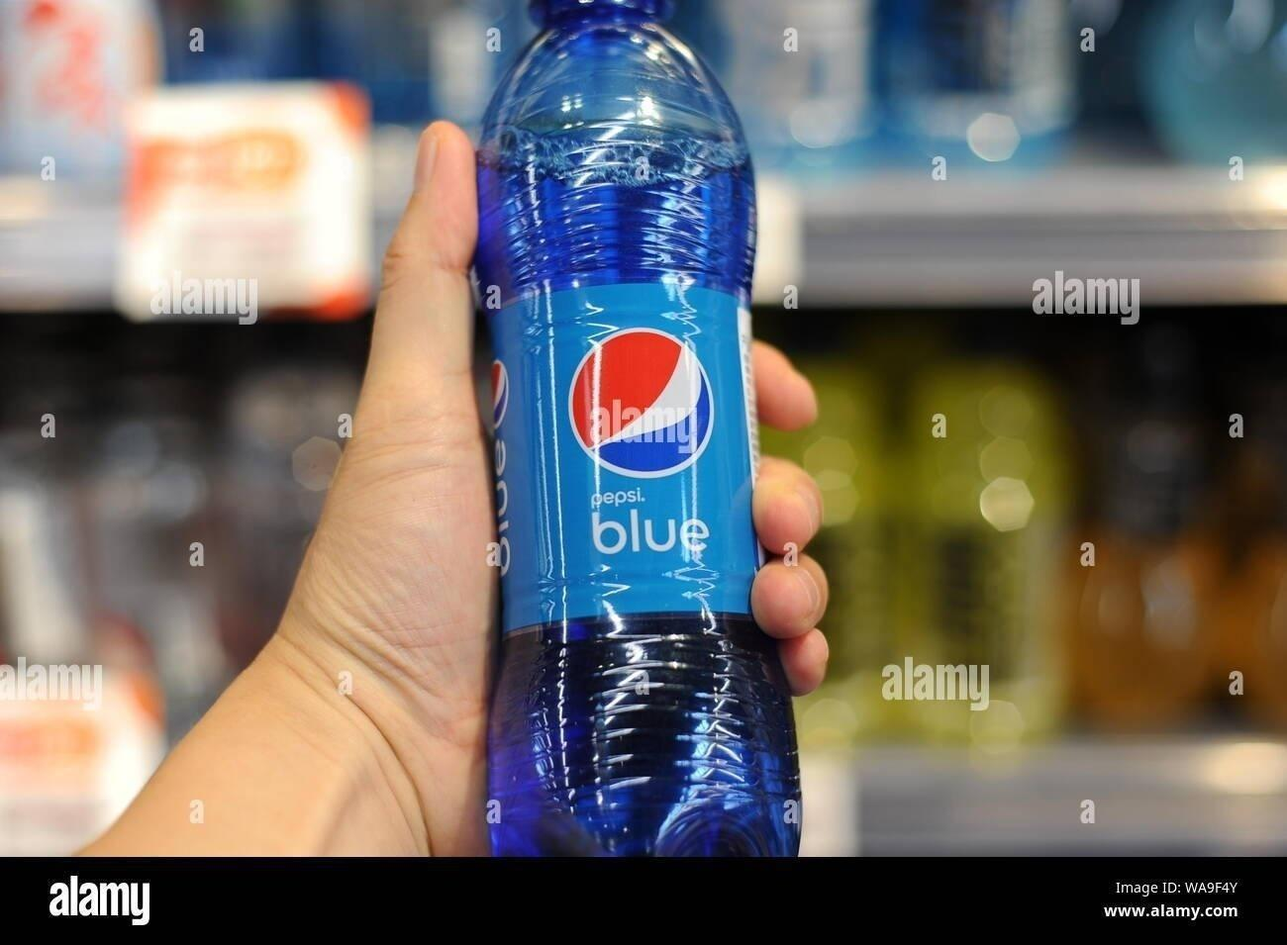bottle-plastic: (463, 0, 808, 858)
